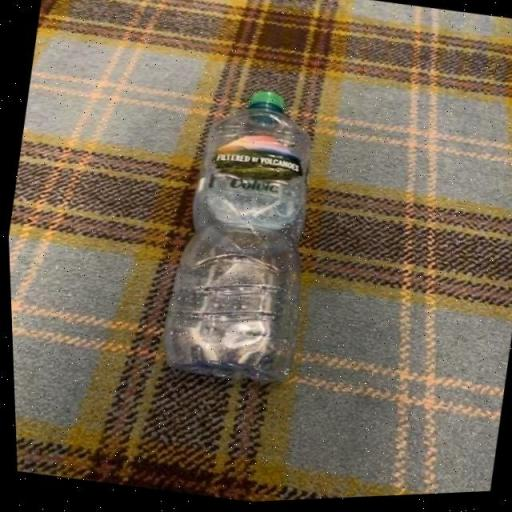plastic: (149, 80, 337, 390)
